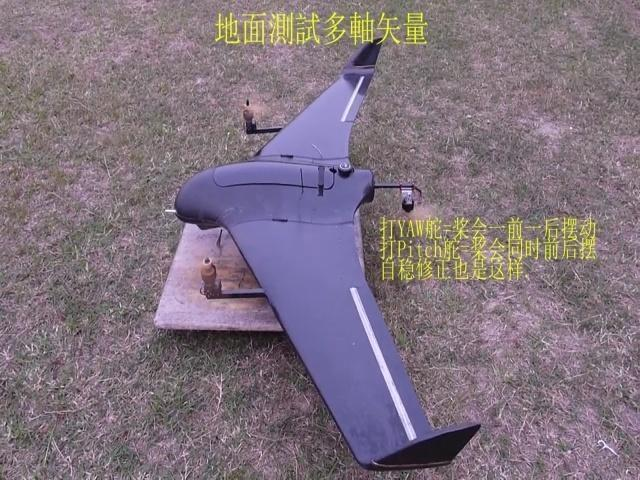Airplane: (165, 37, 481, 472)
